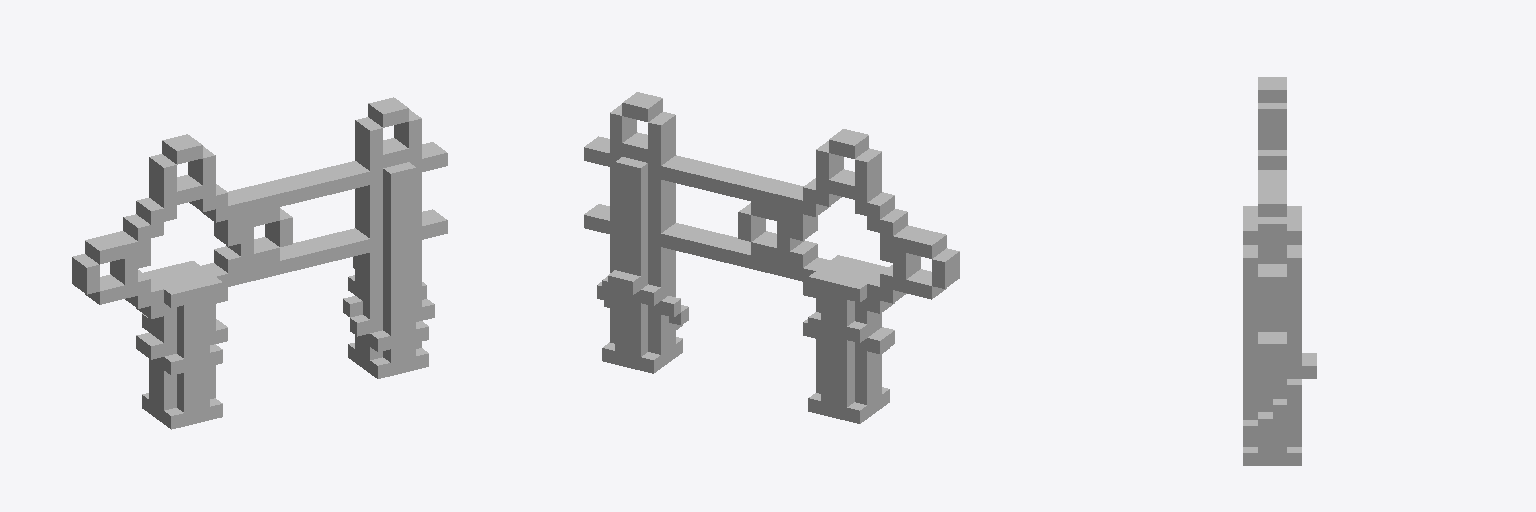
Rendered from VGraveExt.obj.
3 renders of one model, left to right at view 1: azimuth 30°, elevation 25°; view 2: azimuth 150°, elevation 25°; view 3: azimuth 270°, elevation 25°, orthographic.
Bounding box in the file's own units: 28 × 20 × 5.